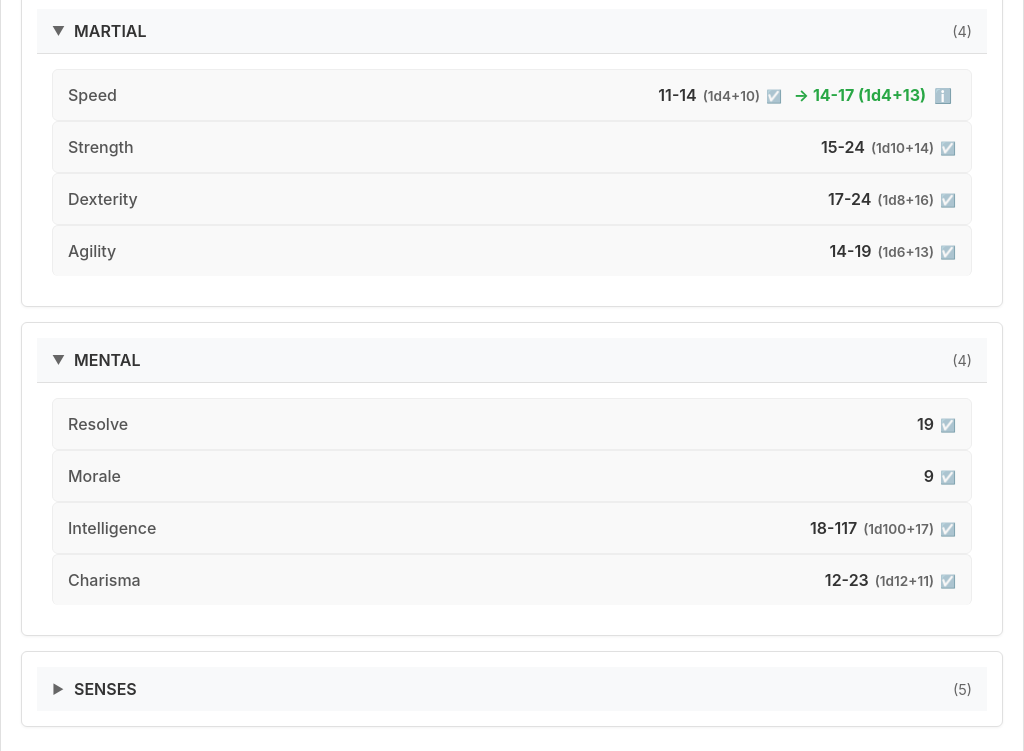
Scenario: CharacterAttributesBackend › Ready Grouped Attributes Fallback › should calculate fallback ready grouped attributes when backend data is missing
(page scrolled)
Step 1. Click the text "SENSES" → (105, 689), box left=74, top=679, right=137, bottom=699
(page scrolled)
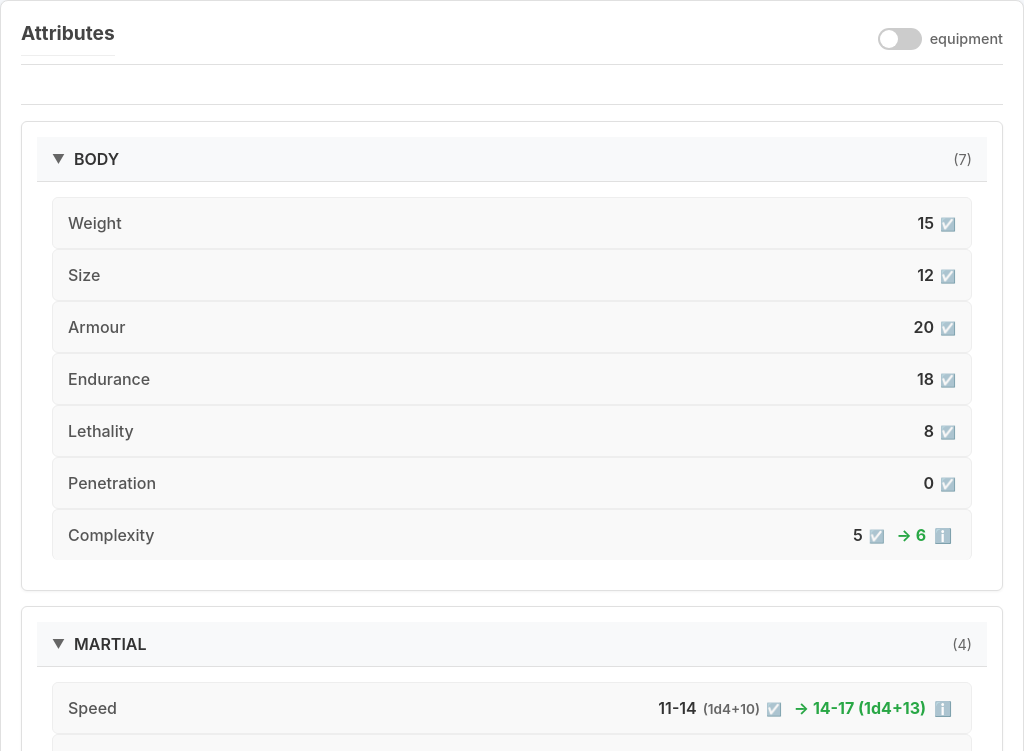
Step 2. Click the checkbox → (940, 38), box left=878, top=28, right=1003, bottom=50
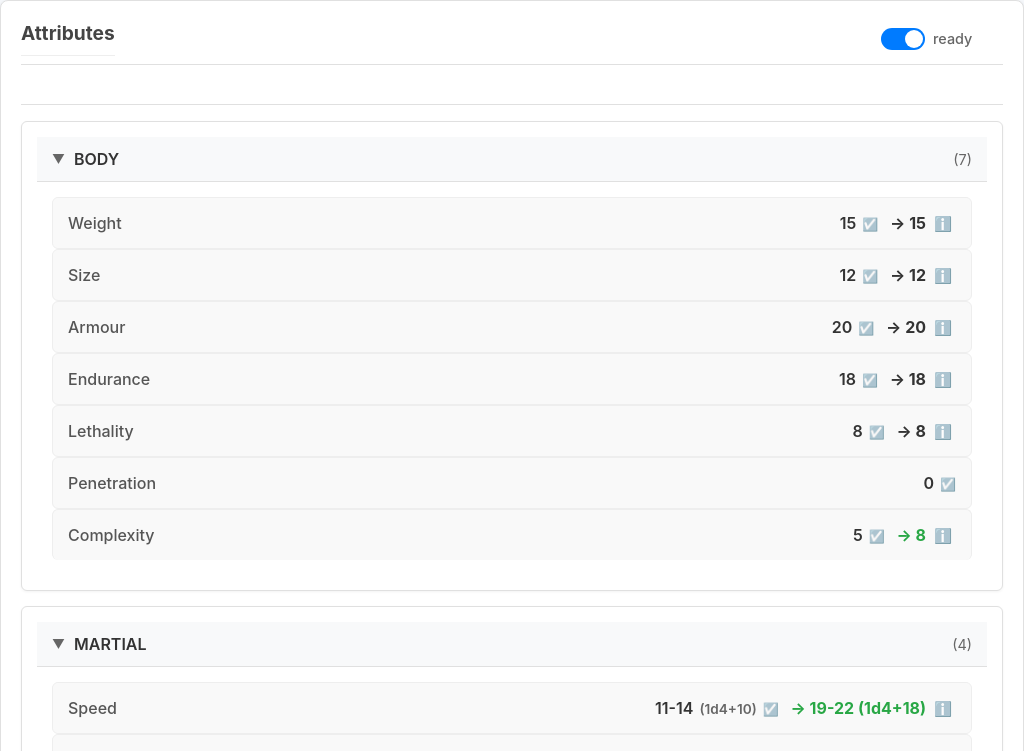
Expected: the text "15☑️ → 15 ℹ️" is shown, left=840, top=213, right=956, bottom=233
Expected: the text "ready" is shown, left=933, top=30, right=972, bottom=47
